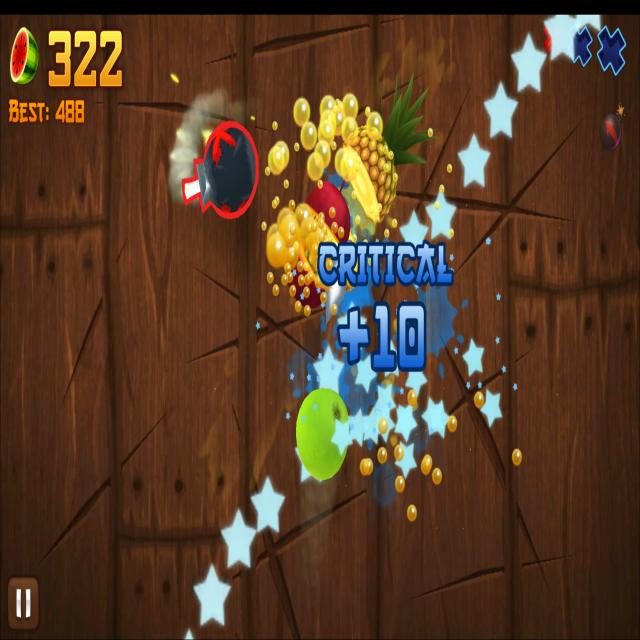bomb: (182, 121, 260, 220)
